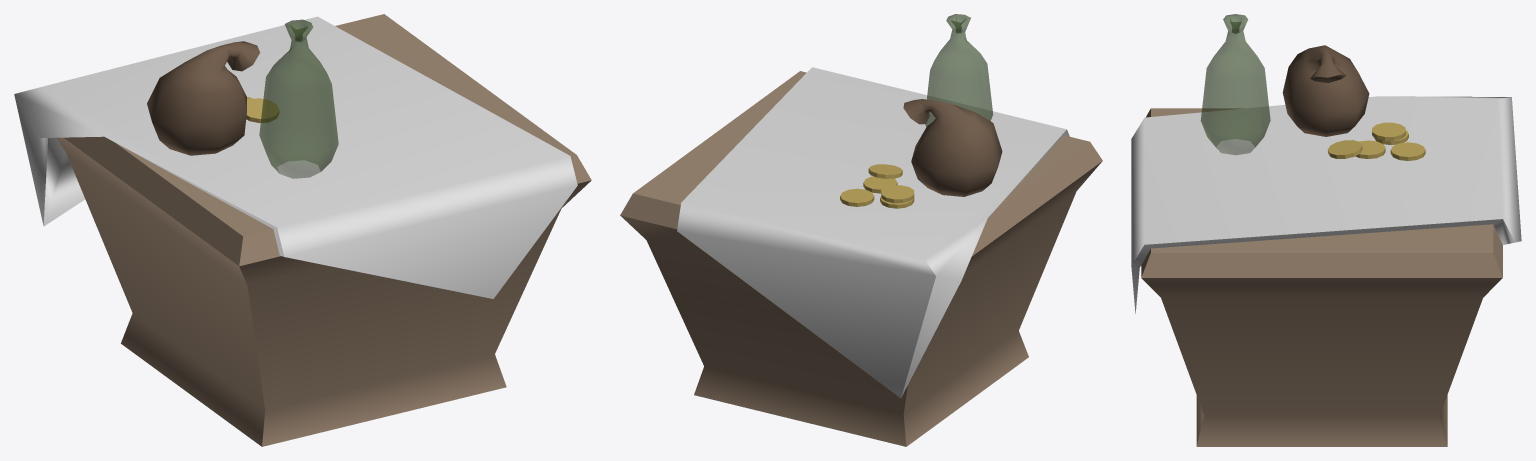
Rendered from TableSet.fbx.
3 renders of one model, left to right at view 1: azimuth 30°, elevation 25°; view 2: azimuth 150°, elevation 25°; view 3: azimuth 270°, elevation 25°, orthographic. The views are drawn at different scales.
Visible parts, largest first — view 1: polySurface2, Table, CoinPulse, WineBottle, TableClothe; view 2: polySurface2, Table, CoinPulse, WineBottle, TableClothe; view 3: Table, polySurface2, WineBottle, CoinPulse, TableClothe.
Part boxes in pixels (left/top/right/bottom): polySurface2: left=14, top=16, right=577, bottom=298; Table: left=56, top=14, right=591, bottom=446; CoinPulse: left=147, top=41, right=260, bottom=155; WineBottle: left=259, top=19, right=338, bottom=178; TableClothe: left=246, top=97, right=279, bottom=123; polySurface2: left=677, top=67, right=1069, bottom=398; Table: left=620, top=71, right=1102, bottom=446; CoinPulse: left=903, top=99, right=1002, bottom=196; WineBottle: left=925, top=14, right=992, bottom=126; TableClothe: left=840, top=164, right=914, bottom=208; Table: left=1141, top=108, right=1502, bottom=446; polySurface2: left=1131, top=96, right=1521, bottom=313; WineBottle: left=1200, top=14, right=1270, bottom=154; CoinPulse: left=1282, top=45, right=1369, bottom=136; TableClothe: left=1327, top=122, right=1425, bottom=160.
Size of the model in its own units: 5.84 by 5.86 by 5.97.
